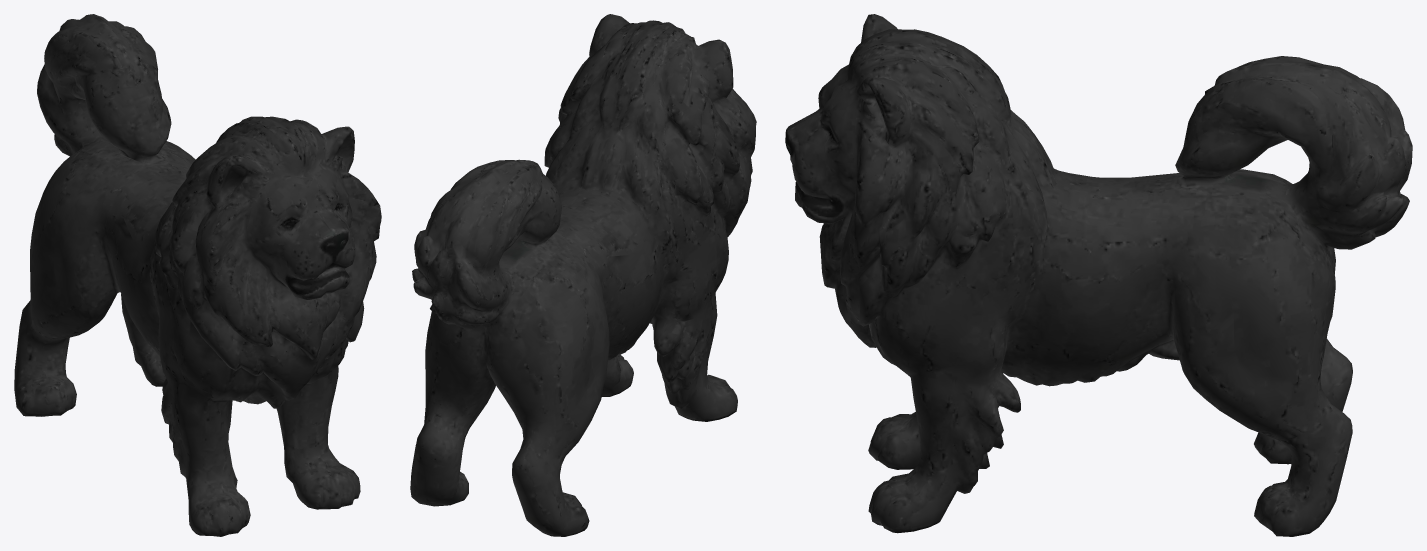
Rendered from detail_14_lo.glb.
3 renders of one model, left to right at view 1: azimuth 30°, elevation 25°; view 2: azimuth 150°, elevation 25°; view 3: azimuth 270°, elevation 25°, orthographic. The views are drawn at different scales.
Parts seen in each view (by area): view 1: Mesh_0.001; view 2: Mesh_0.001; view 3: Mesh_0.001.
Part boxes in pixels (left/top/right/bottom): Mesh_0.001: left=14, top=14, right=381, bottom=536; Mesh_0.001: left=410, top=14, right=756, bottom=536; Mesh_0.001: left=785, top=14, right=1412, bottom=536.
Bounding box in the file's own units: 0.407 × 0.8036 × 1.
1 material, 1 textured.
